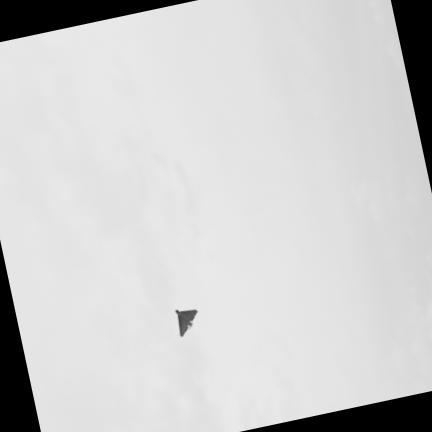Shahed: (175, 309, 196, 335)
